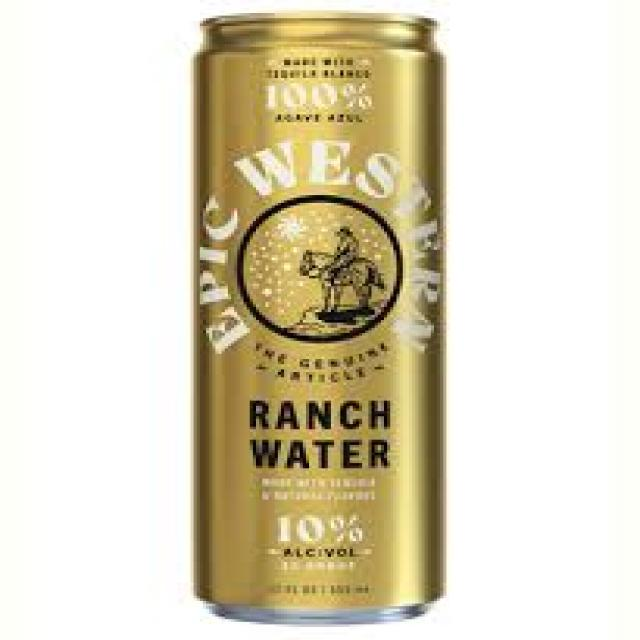Cans: (178, 8, 468, 627)
